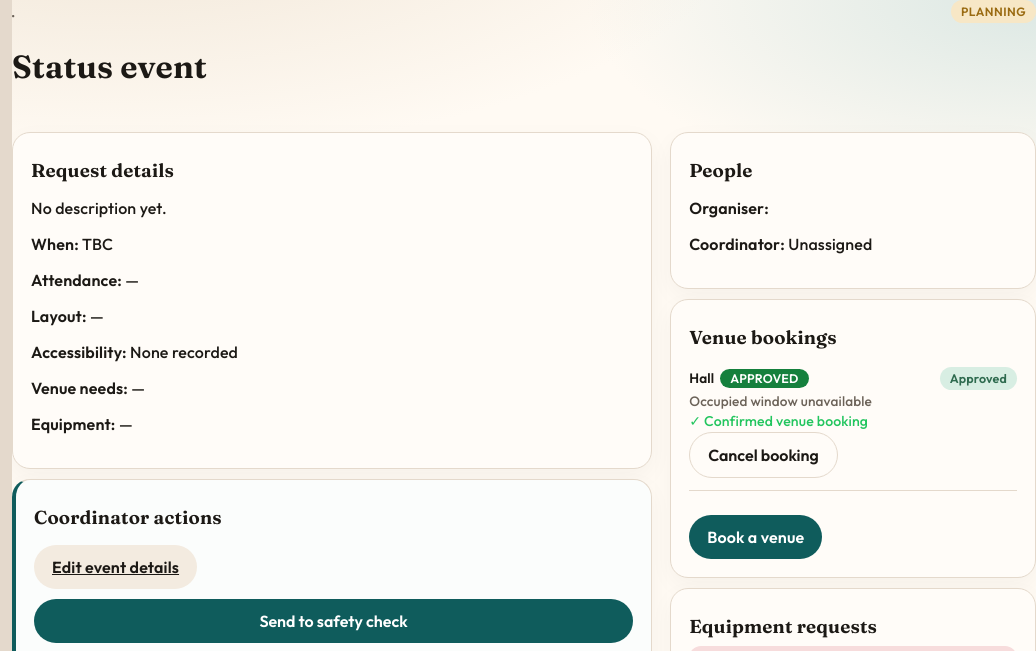
Test case: US5-F12: a refused status change is shown inside the Coordinator actions card
The image size is (1036, 651).
Expected: the heading "Status event" is shown, [12,47,207,86]
Click the button "Send to safety check" at (334, 621), box [34,599,633,643]
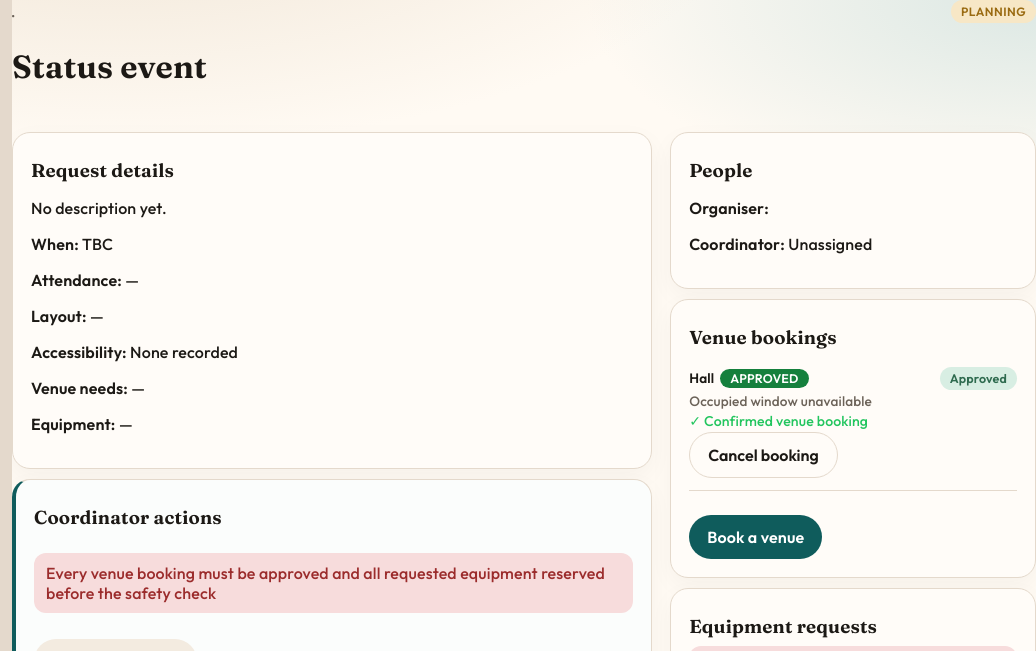
Now the message shows "Every venue booking must be approved and all requested equipment reserved before the safety check", box [46,563,605,603]
